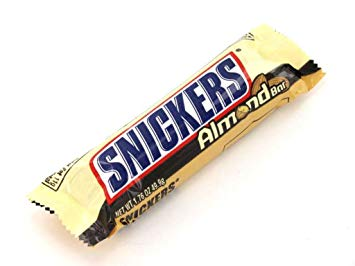snickers: (95, 52, 246, 191), (95, 52, 243, 191), (95, 57, 247, 191)
